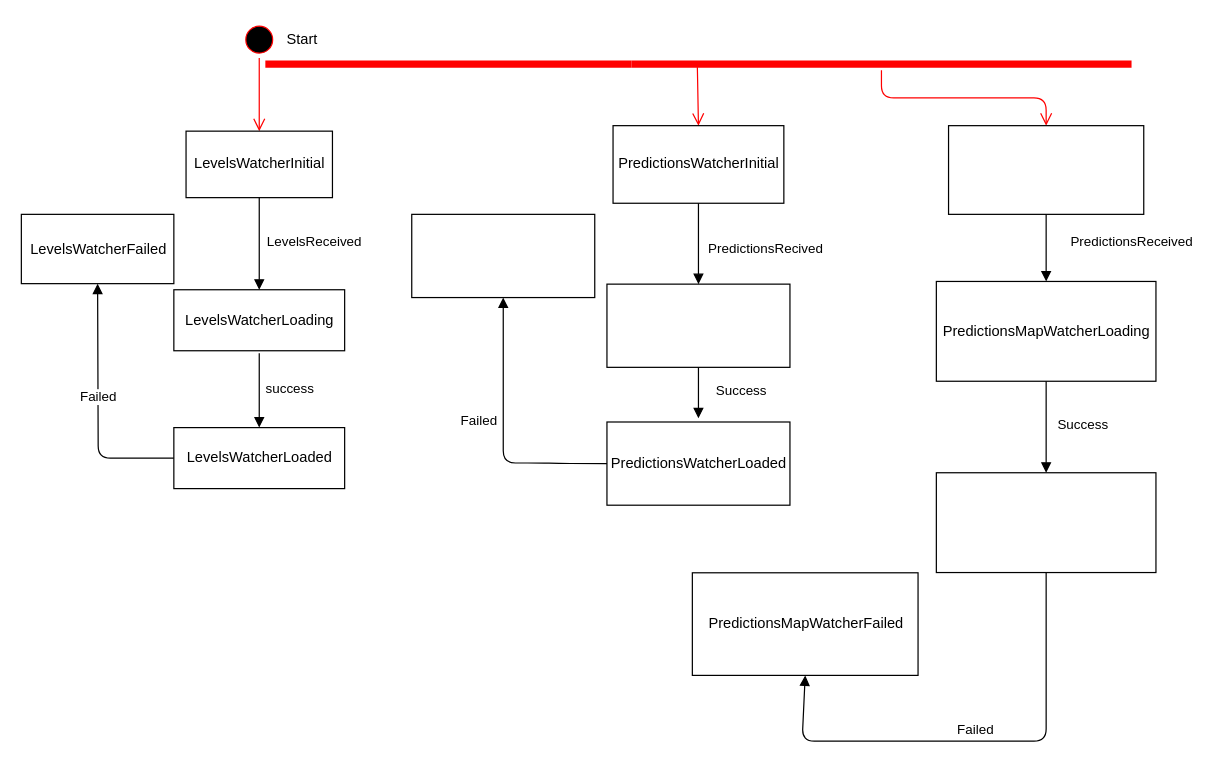
Some shapes in this 1214 by 772 pixel diagram are drawn without their labels. Each missing label, with the box of its shape:
PredictionsMapWatcherInitial: (947, 124, 1144, 214)
PredictionsMapWatcherLoaded: (935, 472, 1156, 573)
PredictionsWatcherFailed: (411, 213, 595, 298)
PredictionsWatcherLoading: (606, 283, 790, 367)
